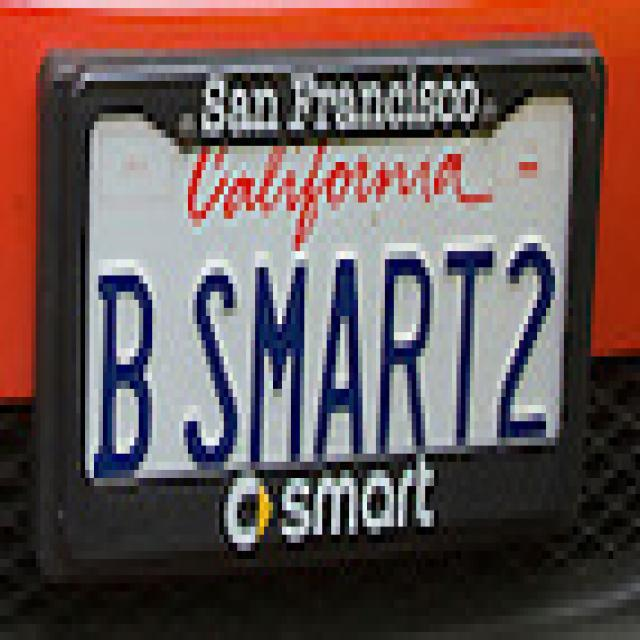A: (312, 216, 373, 474)
B: (90, 250, 164, 497)
M: (243, 236, 311, 479)
R: (374, 230, 441, 458)
S: (180, 229, 246, 477)
T: (442, 234, 497, 452)
